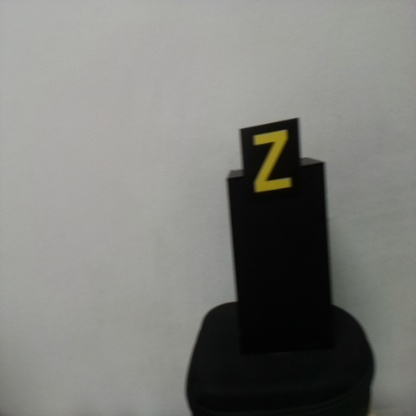id_15: (240, 128, 303, 200)
